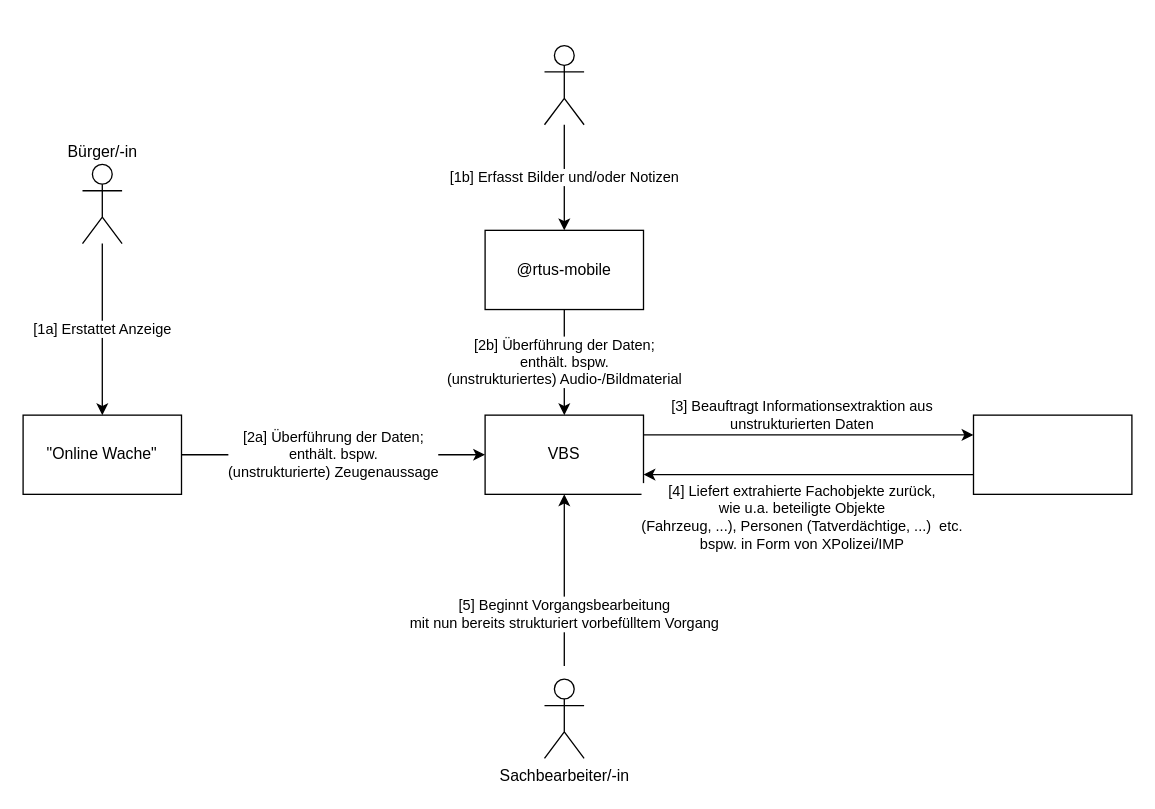
Some shapes in this 1155 by 809 pixel diagram are drawn without their labels. The shapes that lost their labels are listed below. From the top down, each one's centre as x and y in pixels, then its label:
the point at 563,84: Ermittler/-in
the point at 1052,454: KI Dienst
